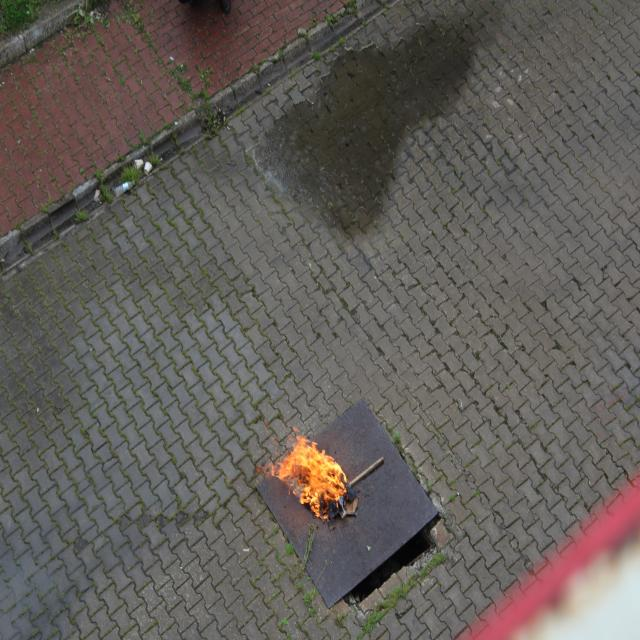fire: (268, 436, 342, 508)
